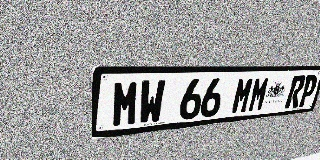6: (179, 78, 205, 120), (199, 78, 225, 118)
M: (111, 80, 140, 128), (230, 77, 255, 115), (247, 77, 271, 113)
P: (297, 75, 319, 107)
R: (284, 75, 307, 108)
W: (138, 80, 166, 125)
